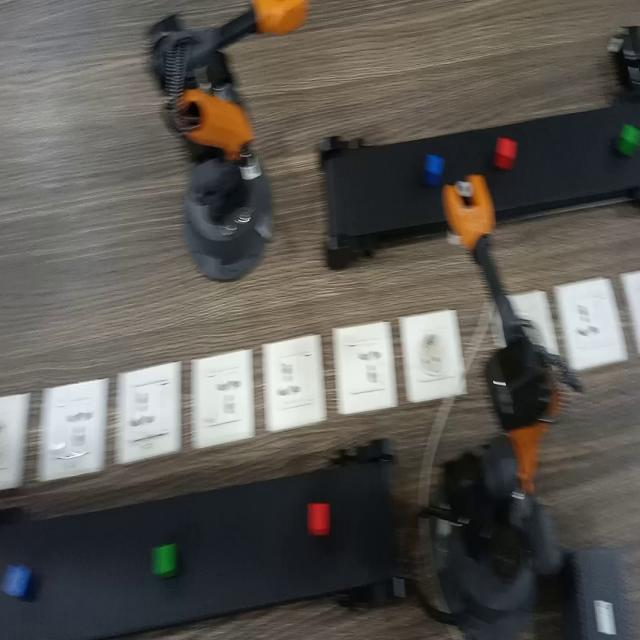cube: (1, 558, 41, 605), (422, 149, 457, 193), (149, 536, 181, 584), (303, 498, 338, 539), (493, 134, 526, 177), (610, 120, 639, 168)
